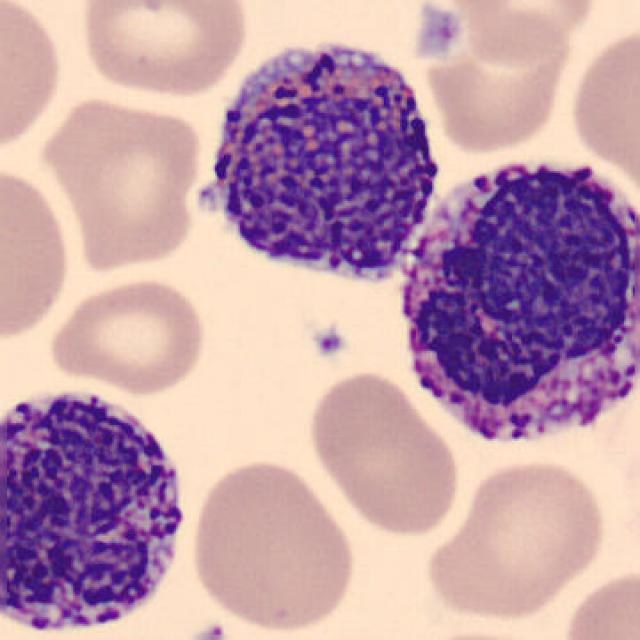Basophil: (384, 141, 640, 464), (181, 23, 457, 305), (0, 372, 199, 640)
Platelets: (411, 2, 464, 63), (310, 323, 350, 363), (181, 620, 231, 640)
RBC: (419, 453, 612, 624), (36, 90, 206, 277), (185, 455, 361, 635), (304, 366, 466, 540), (416, 2, 581, 157), (46, 273, 212, 397), (74, 0, 252, 100), (0, 157, 75, 349), (565, 18, 640, 196), (0, 0, 67, 167), (439, 0, 601, 65), (556, 564, 638, 640), (398, 626, 567, 640)
